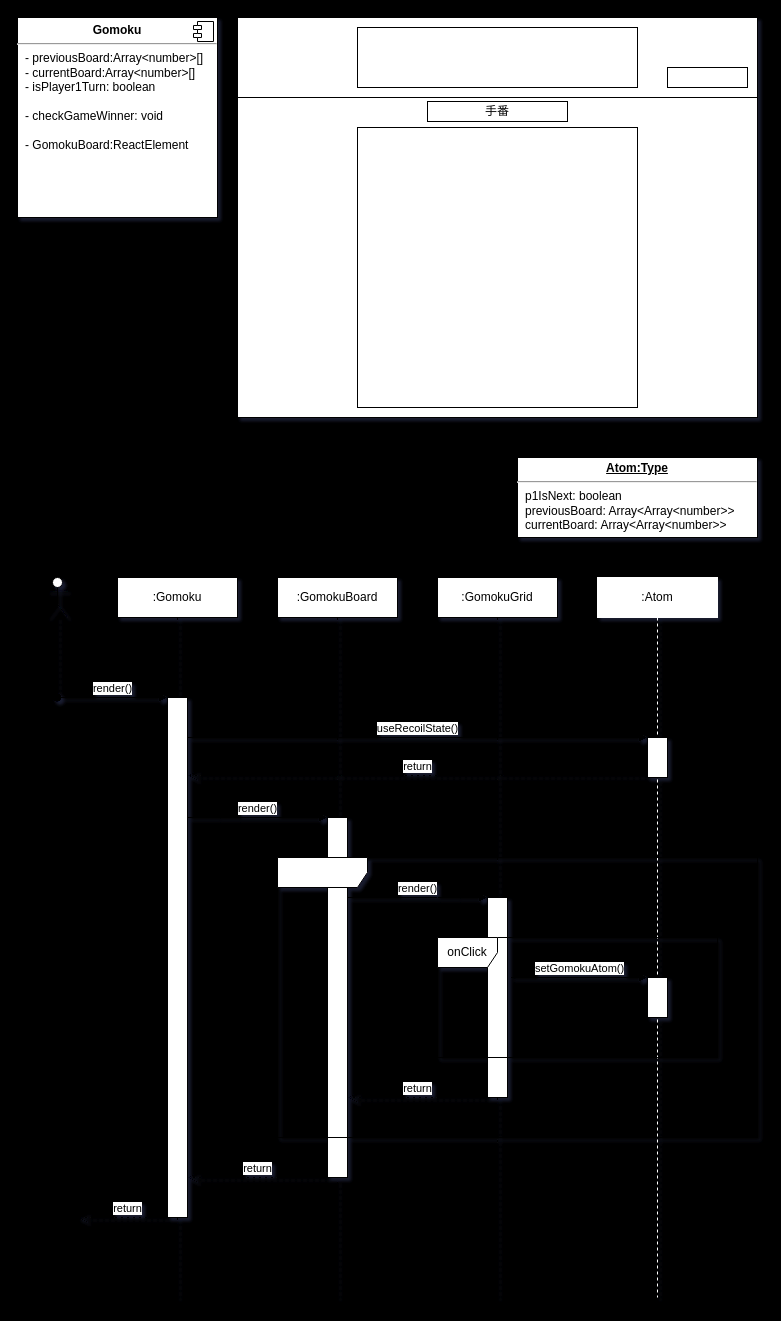
Some shapes in this 781 by 1321 pixel diagram are drawn without their labels. Here are the shapes that lost their labels. From the top down, the centre of each, then its label:
At (x=497, y=57): "タイトル".
At (x=707, y=77): "一覧へ".
At (x=497, y=267): "ゲームエリア".
At (x=517, y=997): "loop[boadsize]".
